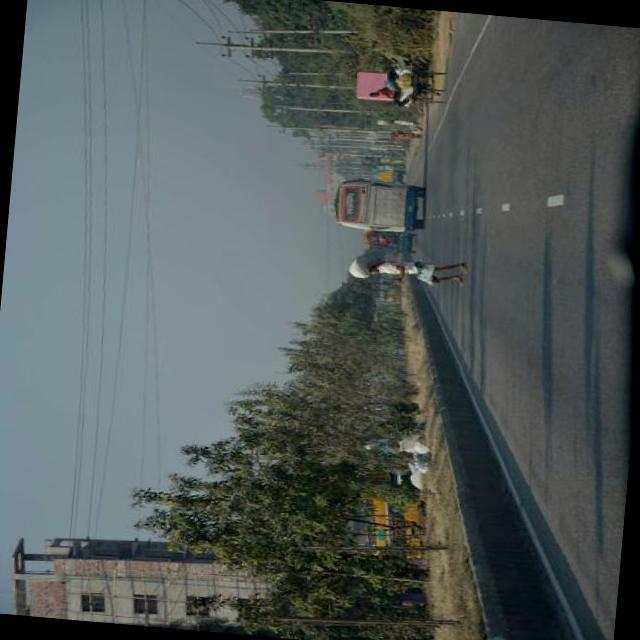bus: (330, 175, 421, 232)
truck: (315, 462, 424, 560), (360, 228, 412, 252), (364, 163, 401, 180)
